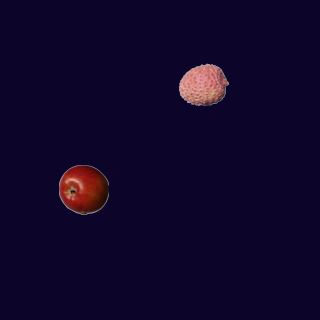Apple Braeburn: (58, 164, 108, 214)
Lychee: (178, 59, 228, 109)
